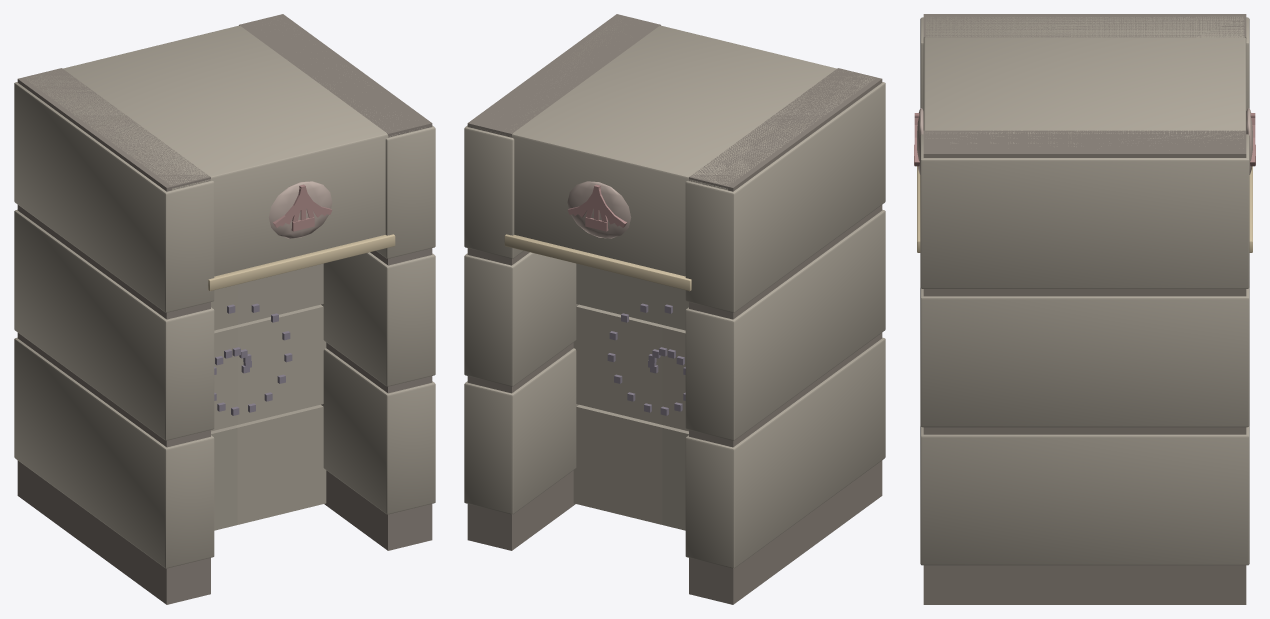
Rendered from dk_whorl_door.gltf.
3 renders of one model, left to right at view 1: azimuth 30°, elevation 25°; view 2: azimuth 150°, elevation 25°; view 3: azimuth 270°, elevation 25°, orthographic. The views are drawn at different scales.
Visible parts, largest first — view 1: Body, Leaf; view 2: Body, Leaf; view 3: Body.
Boxes of the visible parts, x1,y1,x2,y2 form: Body: (14, 14, 435, 604); Leaf: (211, 263, 326, 530); Body: (464, 14, 885, 604); Leaf: (573, 263, 688, 530); Body: (914, 14, 1255, 604).
Bounding box in the file's own units: 3.06 × 4.5 × 3.09.
